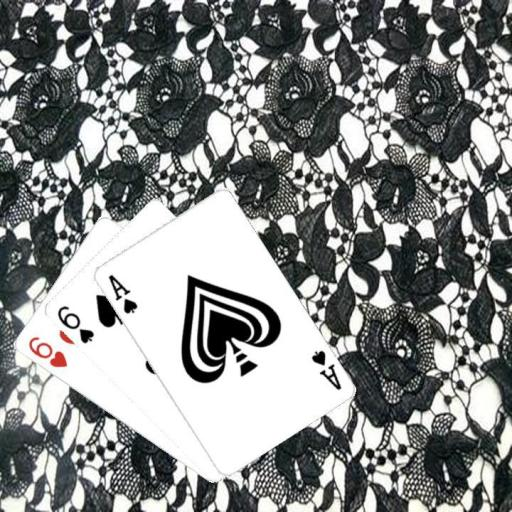6H: (24, 333, 69, 369)
6S: (54, 302, 96, 345)
AS: (307, 346, 343, 392), (105, 271, 139, 316)
